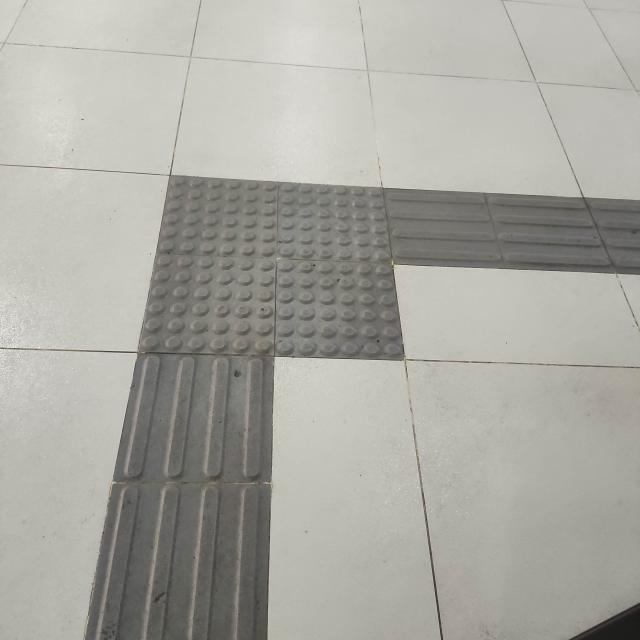kanan: (128, 139, 550, 414)
